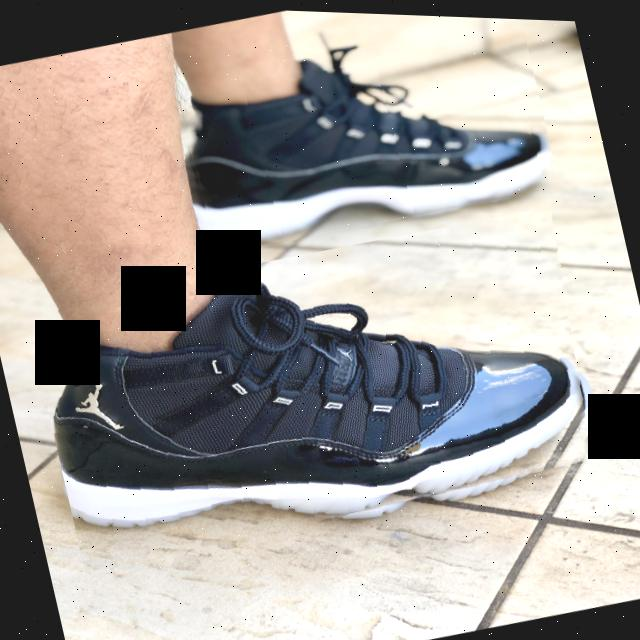shoe: (24, 186, 612, 588), (173, 5, 560, 264)
